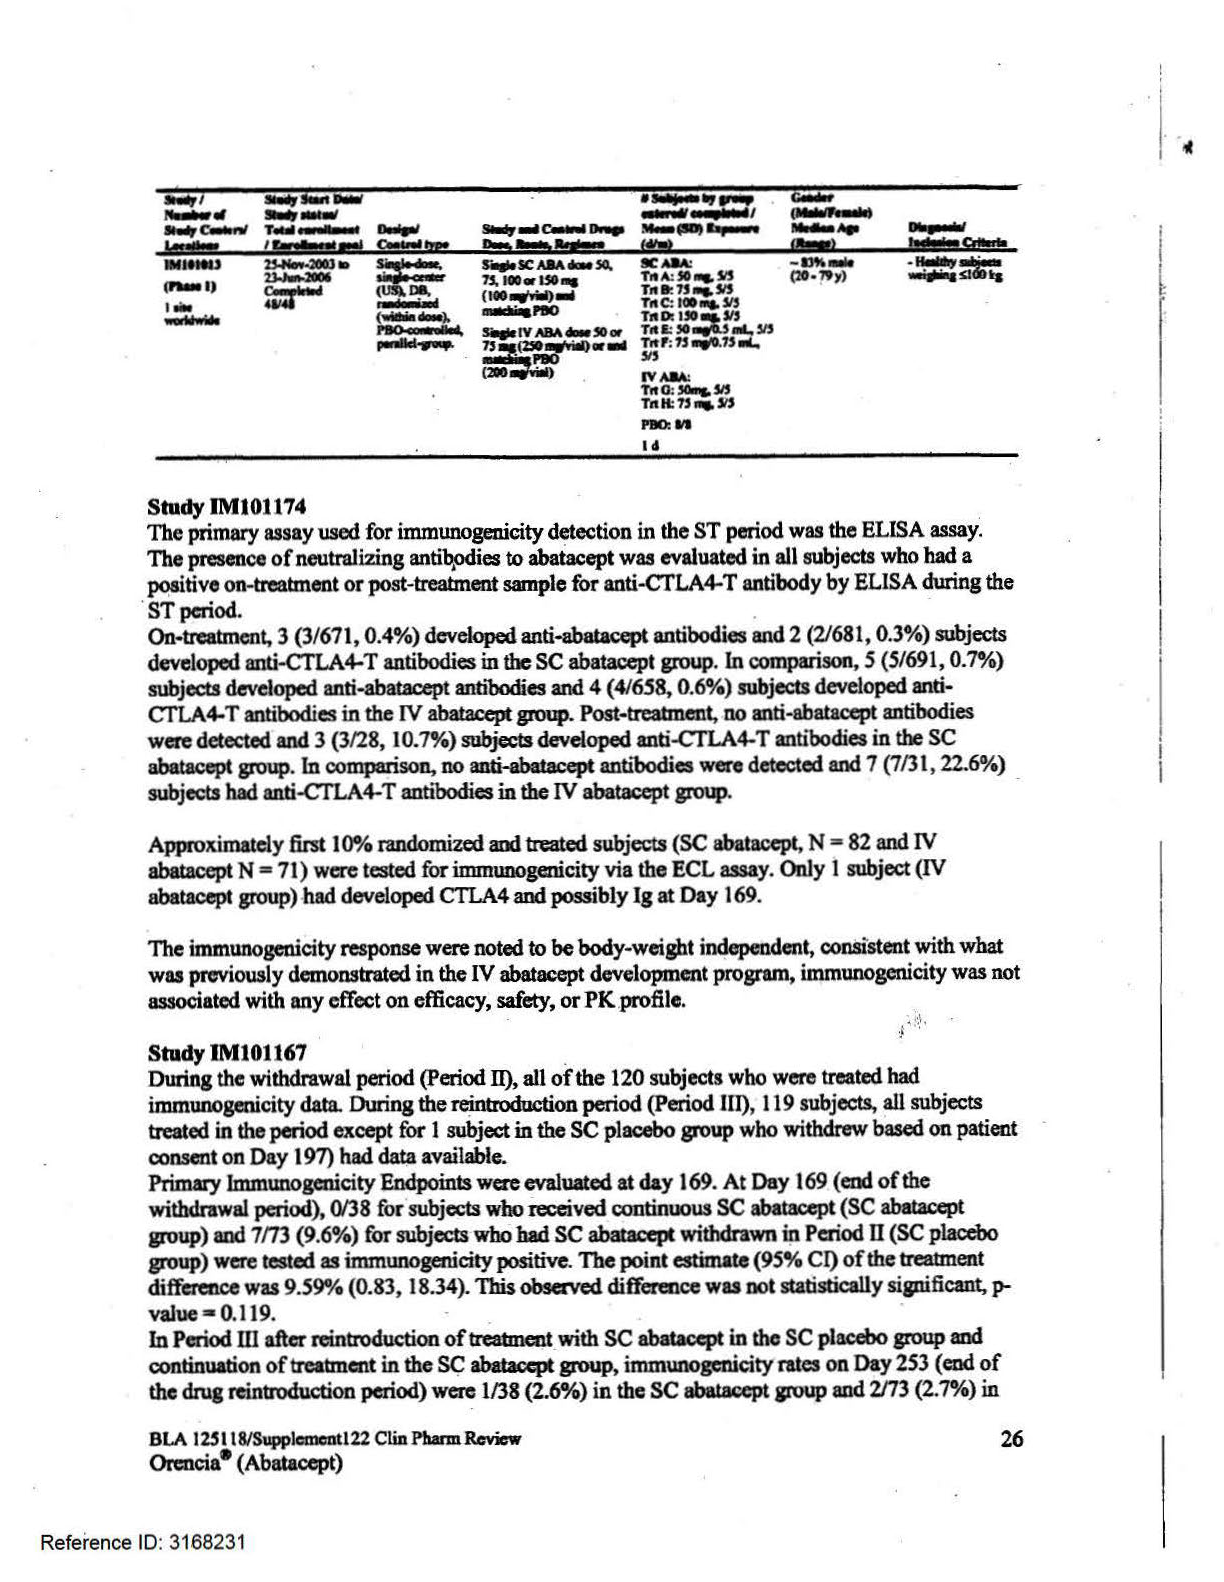partial_lined: (154, 184, 1020, 462)
